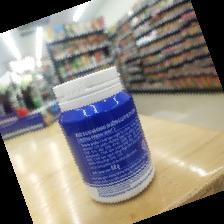Xylitol_blue: (52, 65, 155, 205)
